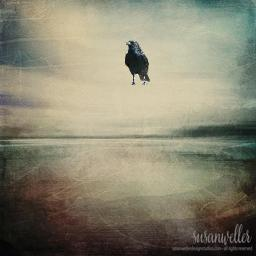Crow: (125, 40, 150, 85)
